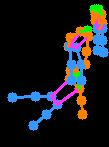normal: (85, 3, 109, 59)
